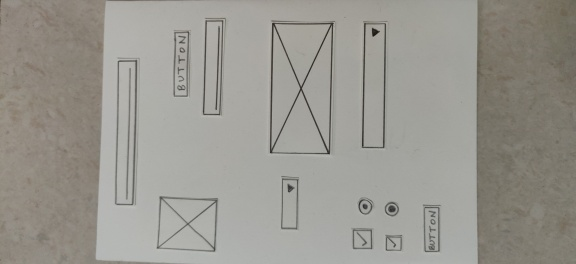button: (169, 26, 193, 103), (420, 203, 443, 254)
checkbox: (349, 225, 375, 252), (382, 232, 406, 254)
dropdown: (358, 20, 390, 151), (277, 174, 302, 234)
img: (266, 18, 336, 159), (155, 194, 220, 256)
radio: (354, 196, 375, 217), (383, 200, 400, 218)
text: (112, 56, 139, 211), (200, 16, 227, 119)
